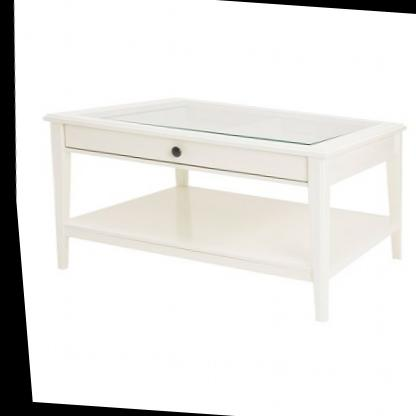Table: (23, 82, 416, 332)
